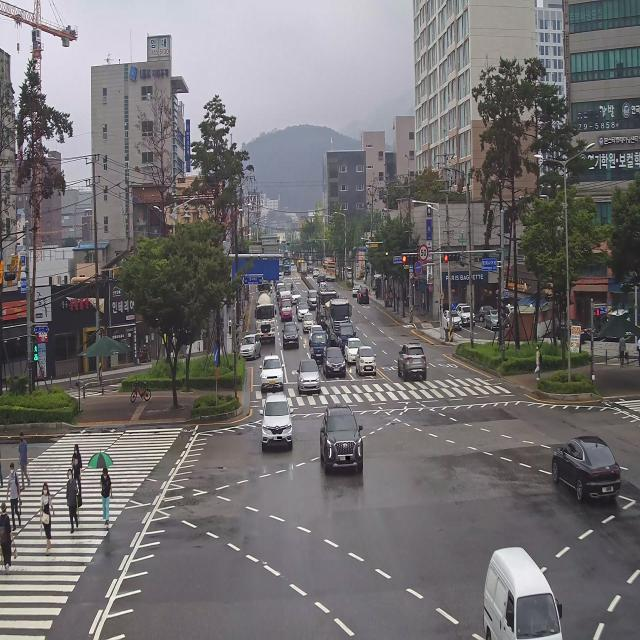Bus: (322, 258, 338, 285)
Car: (471, 531, 565, 640), (546, 413, 625, 512), (314, 398, 370, 484), (248, 392, 299, 466), (386, 335, 442, 386), (257, 346, 291, 396), (291, 359, 324, 399), (320, 337, 348, 382), (553, 315, 587, 346), (238, 325, 262, 364), (354, 340, 378, 378), (278, 318, 304, 351), (438, 307, 462, 332), (483, 307, 505, 332), (345, 336, 362, 362), (458, 305, 476, 326), (355, 283, 369, 309), (478, 304, 494, 322), (308, 324, 324, 341), (307, 287, 319, 307), (452, 298, 472, 310), (297, 302, 310, 318), (302, 313, 314, 330), (295, 295, 307, 307), (351, 282, 360, 296), (292, 290, 302, 302), (316, 270, 326, 282), (318, 282, 328, 292), (346, 268, 354, 279), (313, 267, 320, 276), (308, 264, 313, 274)
Motorcycle: (290, 281, 294, 292)
Truck: (250, 290, 281, 348), (325, 298, 348, 343), (315, 289, 336, 327), (310, 329, 331, 362), (334, 323, 354, 351), (279, 292, 293, 320), (257, 278, 272, 302), (274, 259, 286, 283), (282, 255, 292, 275)
